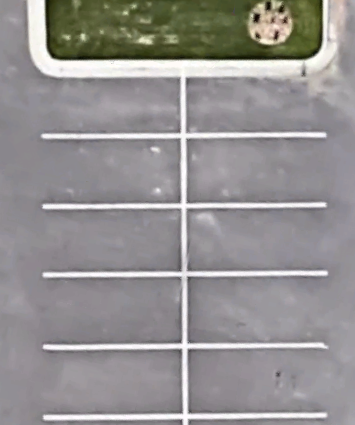Vacant: (43, 274, 184, 348), (183, 273, 327, 345), (45, 346, 187, 418), (40, 135, 183, 206), (184, 136, 326, 206), (183, 346, 327, 415), (41, 206, 184, 274), (185, 206, 327, 274), (42, 69, 184, 135), (185, 69, 327, 135)
